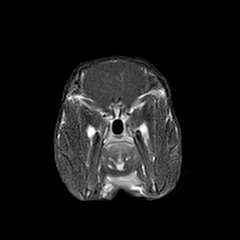Brain: (66, 32, 165, 130)
